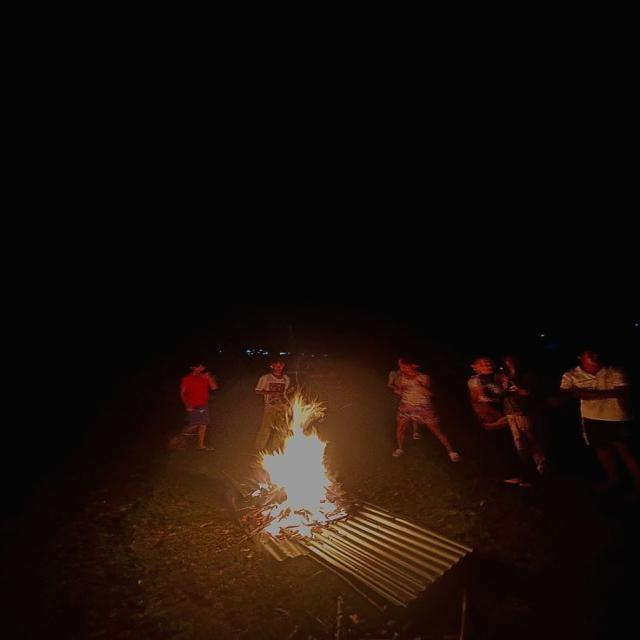fire: (262, 391, 337, 537)
